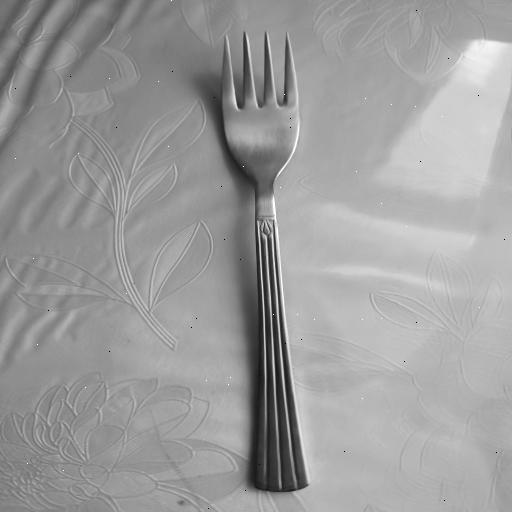fork: (213, 26, 316, 496)
